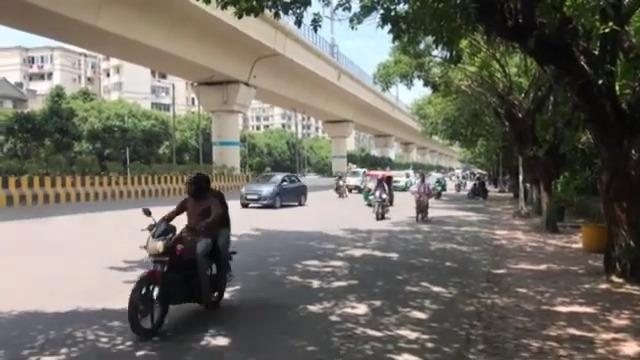Auto: (362, 171, 393, 220), (344, 167, 367, 193)
Bike: (127, 172, 237, 337), (367, 173, 390, 220), (410, 172, 431, 222), (333, 170, 348, 198)
